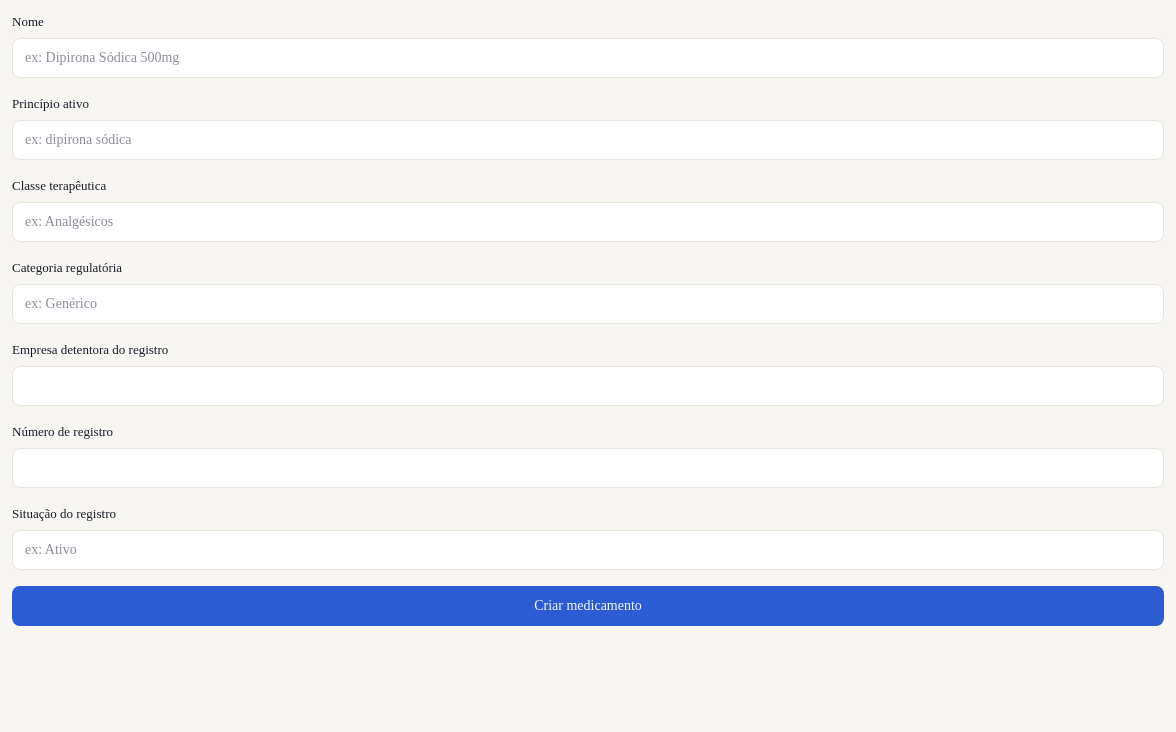
Test: MedicationForm (integration) › blocks submit and shows an error when the name is too short
Step 1. Type "A" into the field with test id "medication-form-name" → (588, 58), box 12,38 -> 1164,78
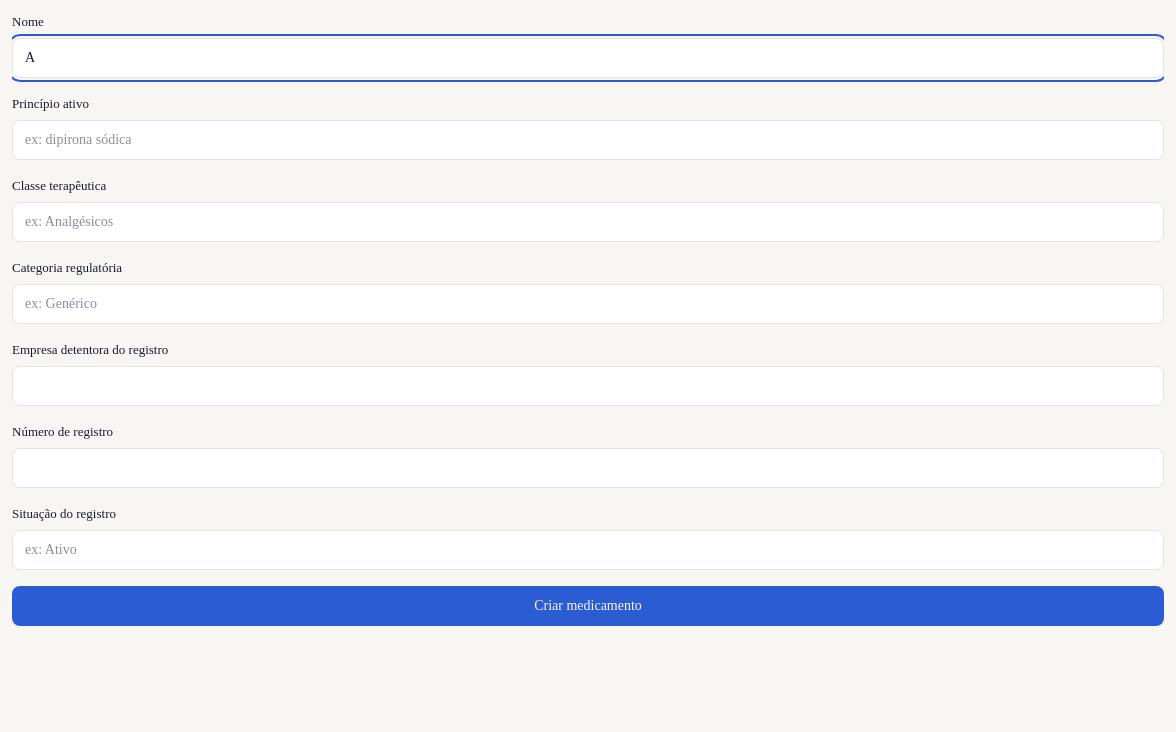
Step 2. Click the button with test id "medication-form-submit" → (588, 606), box 12,586 -> 1164,626
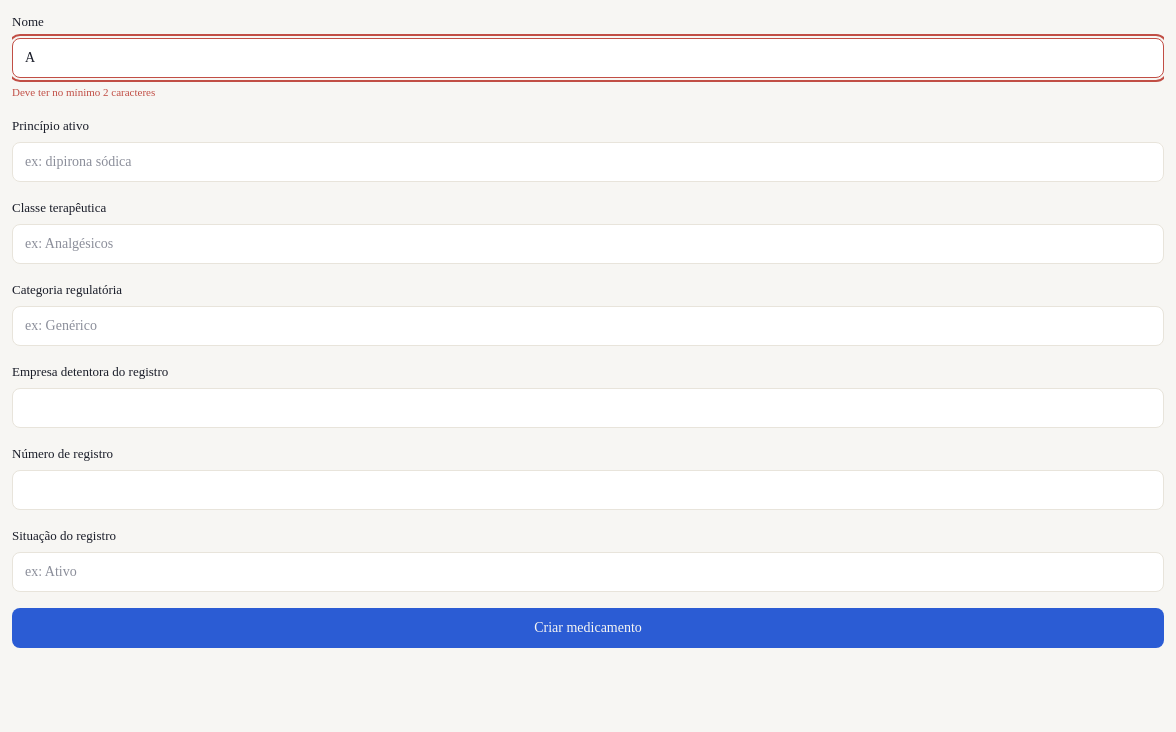
expect the text "Deve ter no mínimo 2 caracteres" is shown: met, box 12,86 -> 155,98
